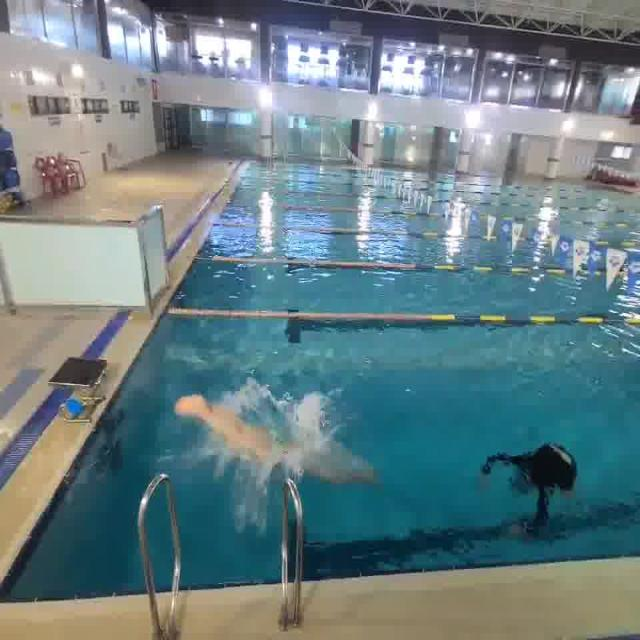Drowning: (468, 414, 597, 557)
